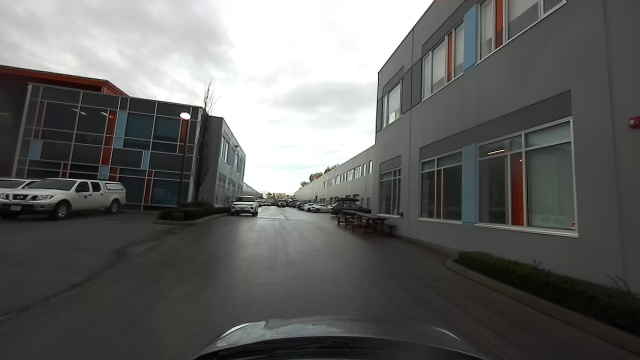car: (2, 170, 126, 219), (227, 195, 258, 217), (329, 198, 370, 213), (311, 205, 328, 214), (275, 198, 287, 207), (302, 203, 313, 212), (290, 201, 300, 209)
